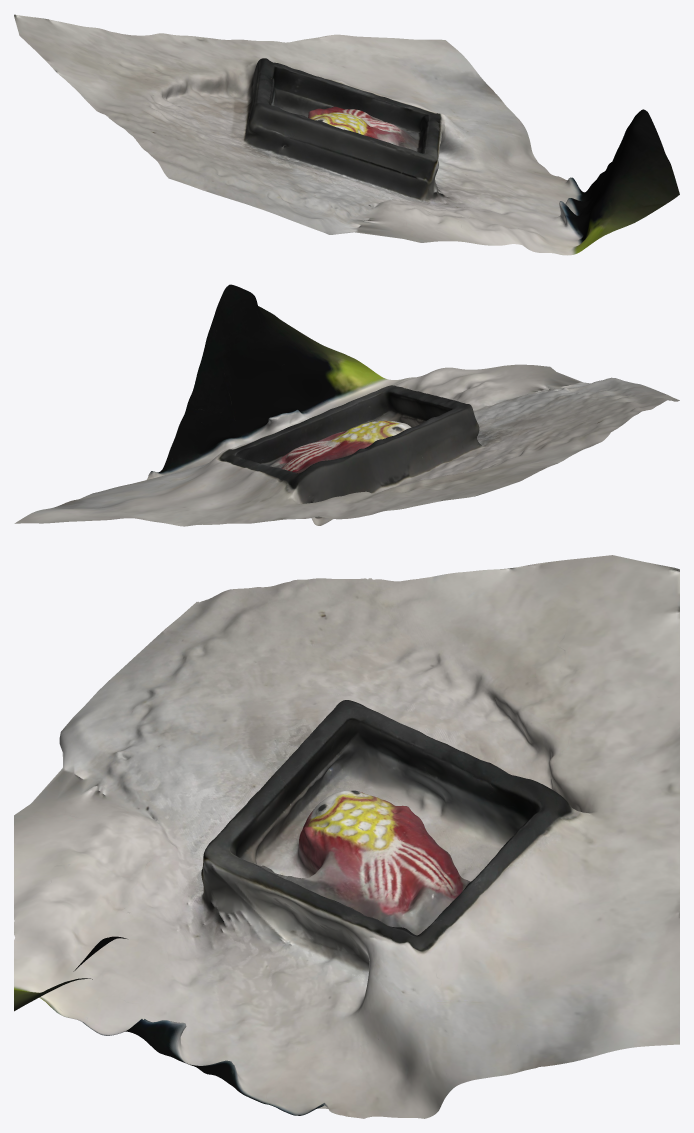
The picture shows the model from 3 angles, top to bottom: view 1: azimuth 30°, elevation 25°; view 2: azimuth 150°, elevation 25°; view 3: azimuth 270°, elevation 25°; orthographic projection. The views are drawn at different scales.
Size of the model in its own units: 1.72 by 0.6749 by 1.58.
1 material, 1 textured.
